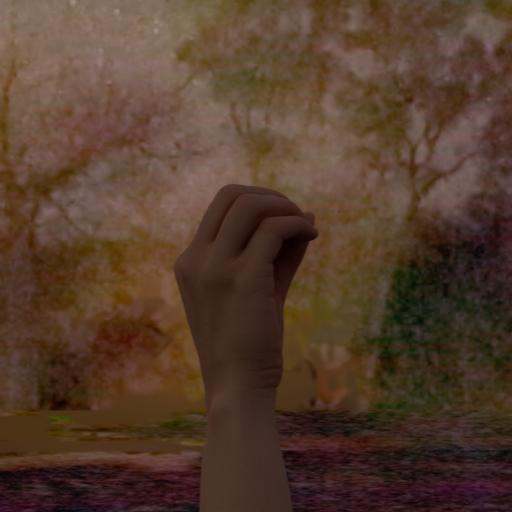O: (168, 180, 322, 384)
